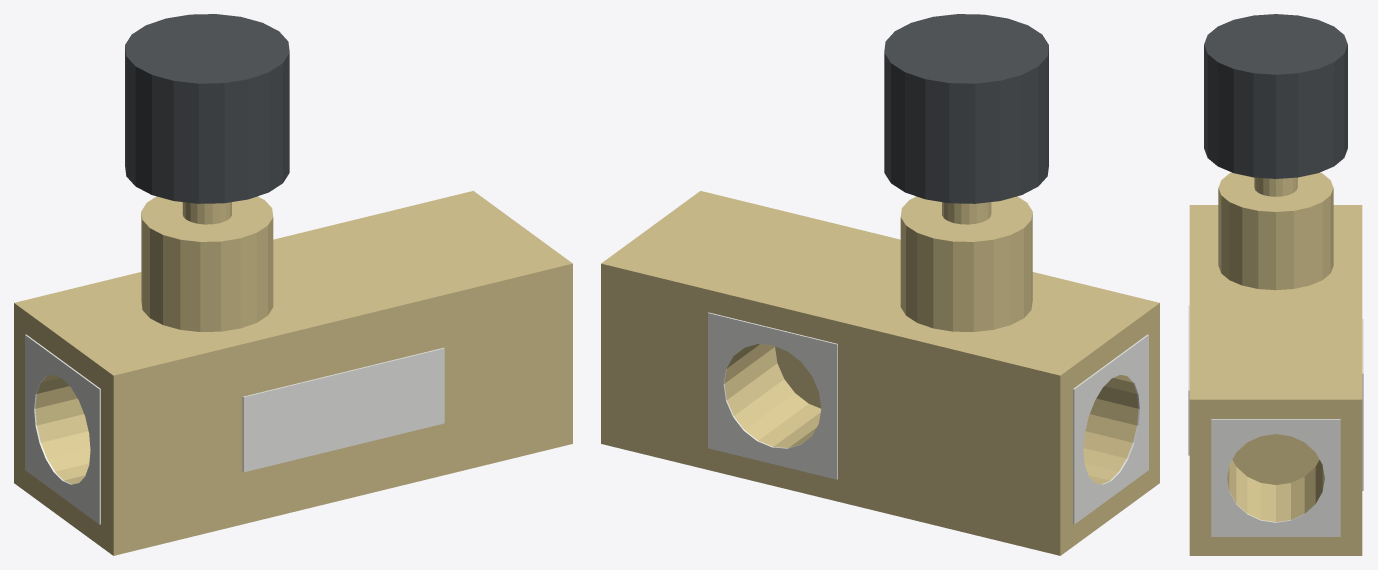
File: valve-needle-3way.glb
3 views of the same model, side by side, from view 1: azimuth 30°, elevation 25°; view 2: azimuth 150°, elevation 25°; view 3: azimuth 270°, elevation 25° (orthographic). The views are drawn at different scales.
Visible parts, largest first — view 1: body, knob, port-1; view 2: body, knob, port-g, port-1; view 3: body, knob, port-2, port-g.
Boxes of the visible parts, bbox=[...] form: body: bbox=[14, 191, 572, 555]; knob: bbox=[125, 14, 289, 224]; port-1: bbox=[25, 334, 100, 524]; body: bbox=[601, 191, 1159, 555]; knob: bbox=[884, 14, 1048, 224]; port-g: bbox=[708, 312, 837, 479]; port-1: bbox=[1073, 334, 1148, 524]; body: bbox=[1188, 172, 1362, 555]; knob: bbox=[1204, 14, 1347, 196]; port-2: bbox=[1211, 419, 1340, 536]; port-g: bbox=[1362, 319, 1363, 490].
Size of what is drawn, in the model's own units: 0.0644 by 0.058 by 0.0244.
